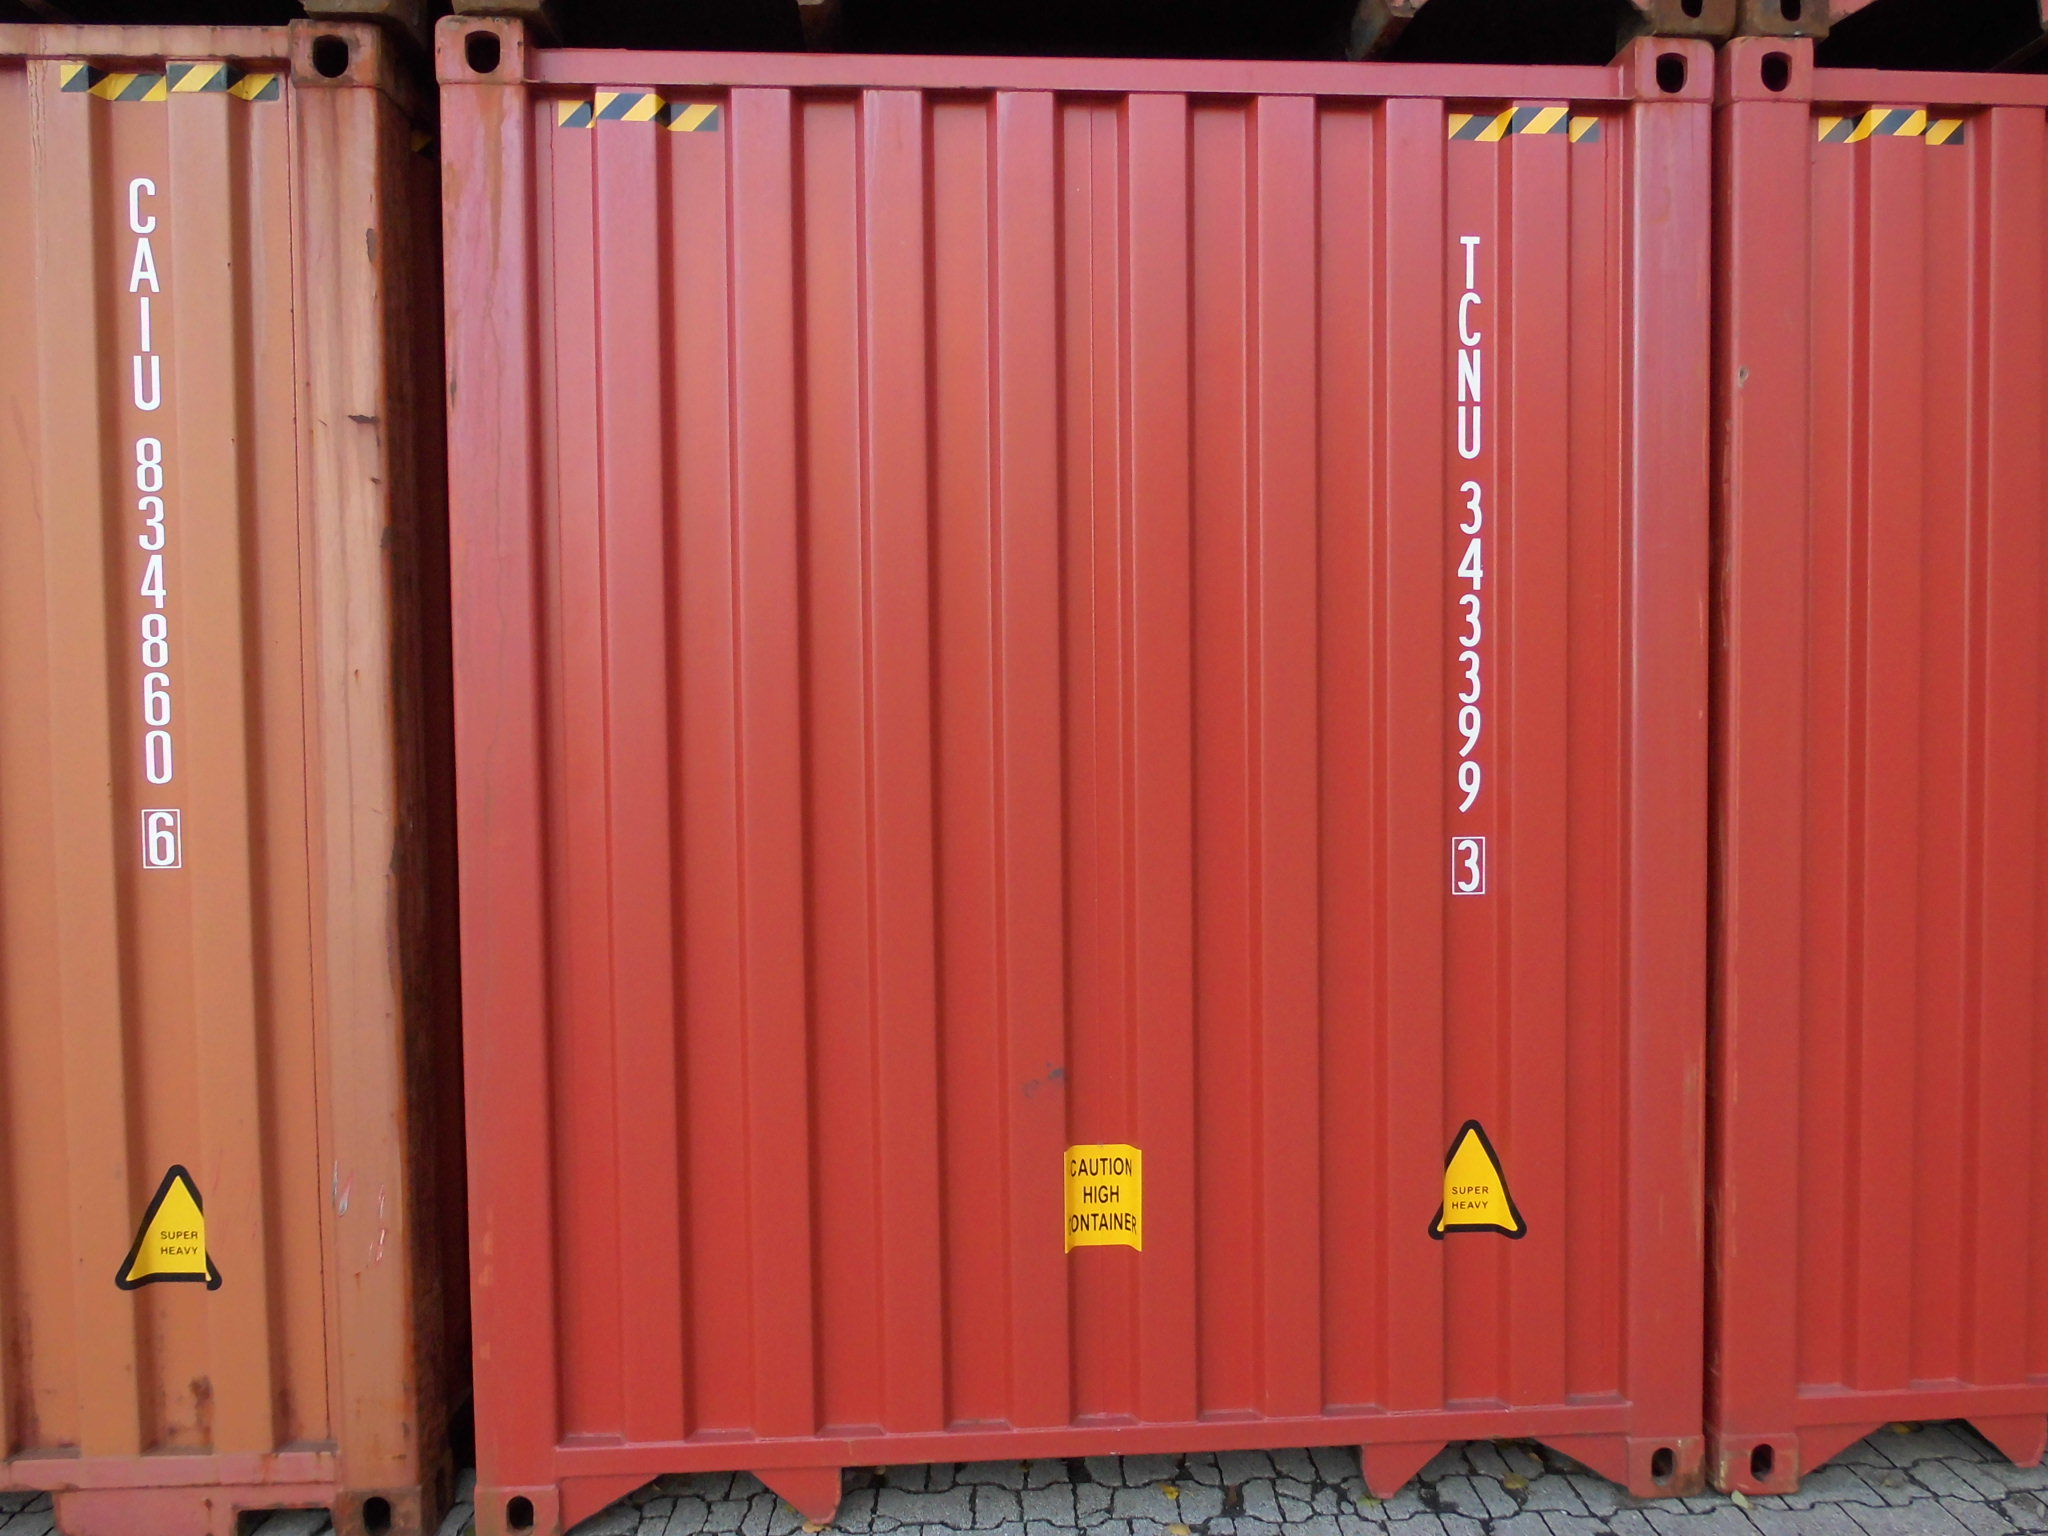container_no_door: (411, 11, 1716, 1526)
